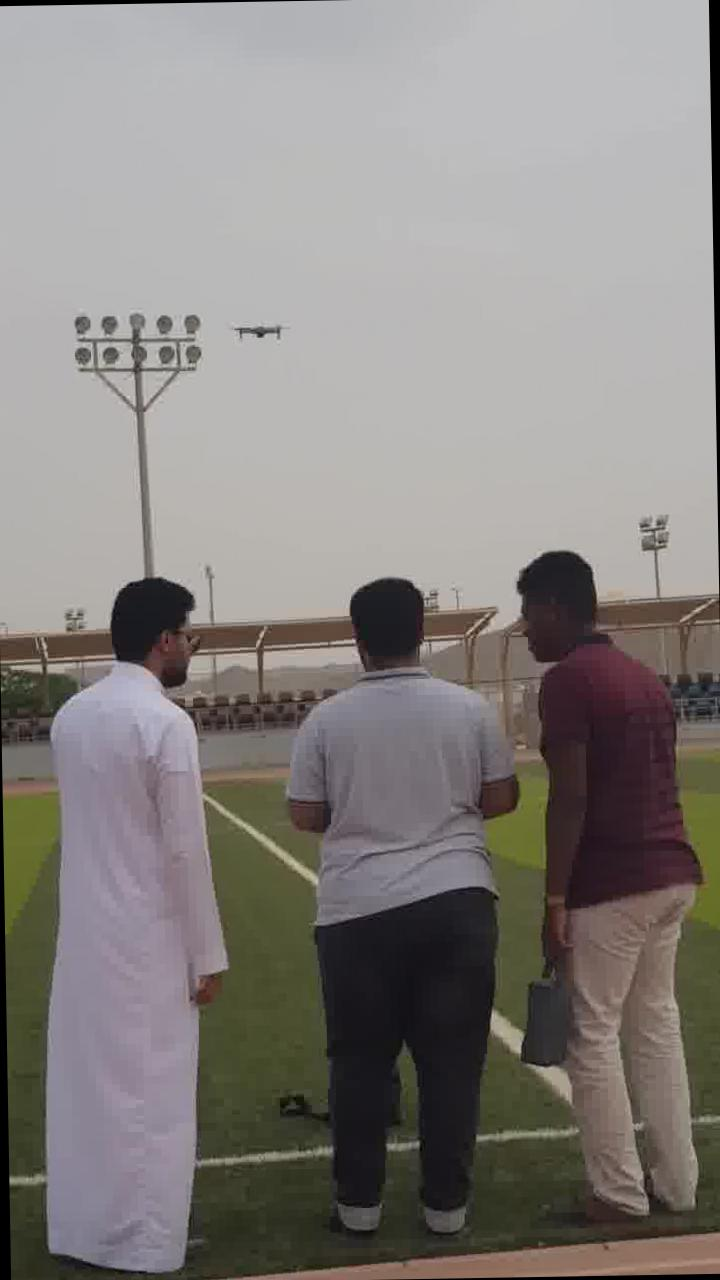drone: (223, 302, 293, 350)
